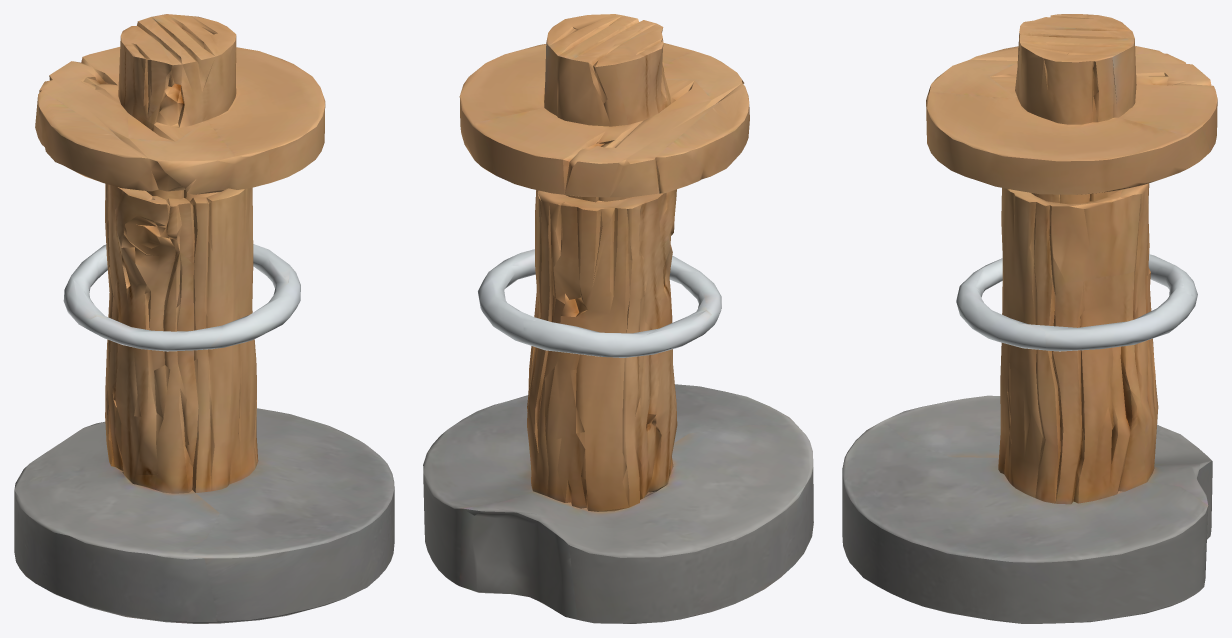
The model's file is m2GrappleRingPostV2.glb.
3 views of the same model, side by side, from view 1: azimuth 30°, elevation 25°; view 2: azimuth 150°, elevation 25°; view 3: azimuth 270°, elevation 25° (orthographic). The views are drawn at different scales.
Visible parts, largest first — view 1: model; view 2: model; view 3: model.
Part boxes in pixels (<box>): model: <box>14,14,394,623</box>; model: <box>423,14,813,623</box>; model: <box>842,14,1217,623</box>.
Bounding box in the file's own units: 1.28 × 1.89 × 1.25.
Materials: 1 (1 with a texture image).
